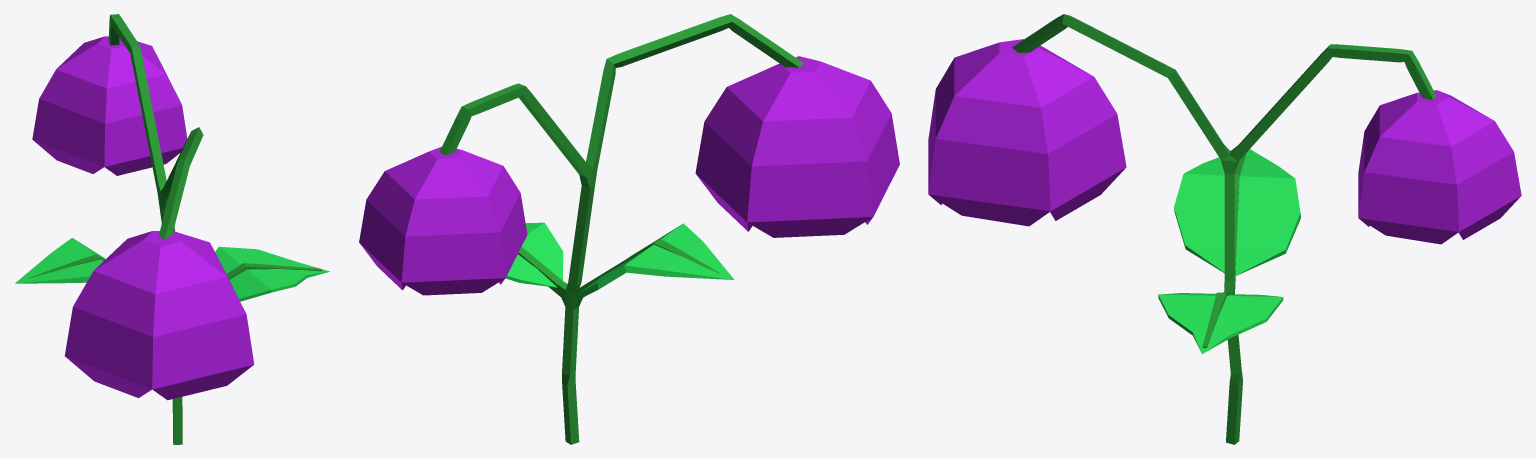
File: glockenblume.fbx
The picture shows the model from 3 angles, left to right: view 1: azimuth 30°, elevation 25°; view 2: azimuth 150°, elevation 25°; view 3: azimuth 270°, elevation 25°; orthographic projection. The views are drawn at different scales.
Visible parts, largest first — view 1: Cone, Circle, Plane.001, Plane; view 2: Cone, Circle, Plane, Plane.001; view 3: Cone, Circle, Plane, Plane.001.
Boxes of the visible parts, left/top/right/bottom form: Cone: left=32, top=36, right=254, bottom=400; Circle: left=29, top=14, right=322, bottom=444; Plane.001: left=215, top=246, right=329, bottom=301; Plane: left=15, top=238, right=105, bottom=283; Cone: left=359, top=56, right=899, bottom=295; Circle: left=439, top=14, right=803, bottom=444; Plane: left=577, top=223, right=734, bottom=299; Plane.001: left=505, top=222, right=563, bottom=287; Cone: left=928, top=39, right=1521, bottom=244; Circle: left=1012, top=14, right=1436, bottom=444; Plane: left=1174, top=149, right=1300, bottom=275; Plane.001: left=1158, top=293, right=1283, bottom=353.
Bounding box in the file's own units: 205 × 214 × 288.
